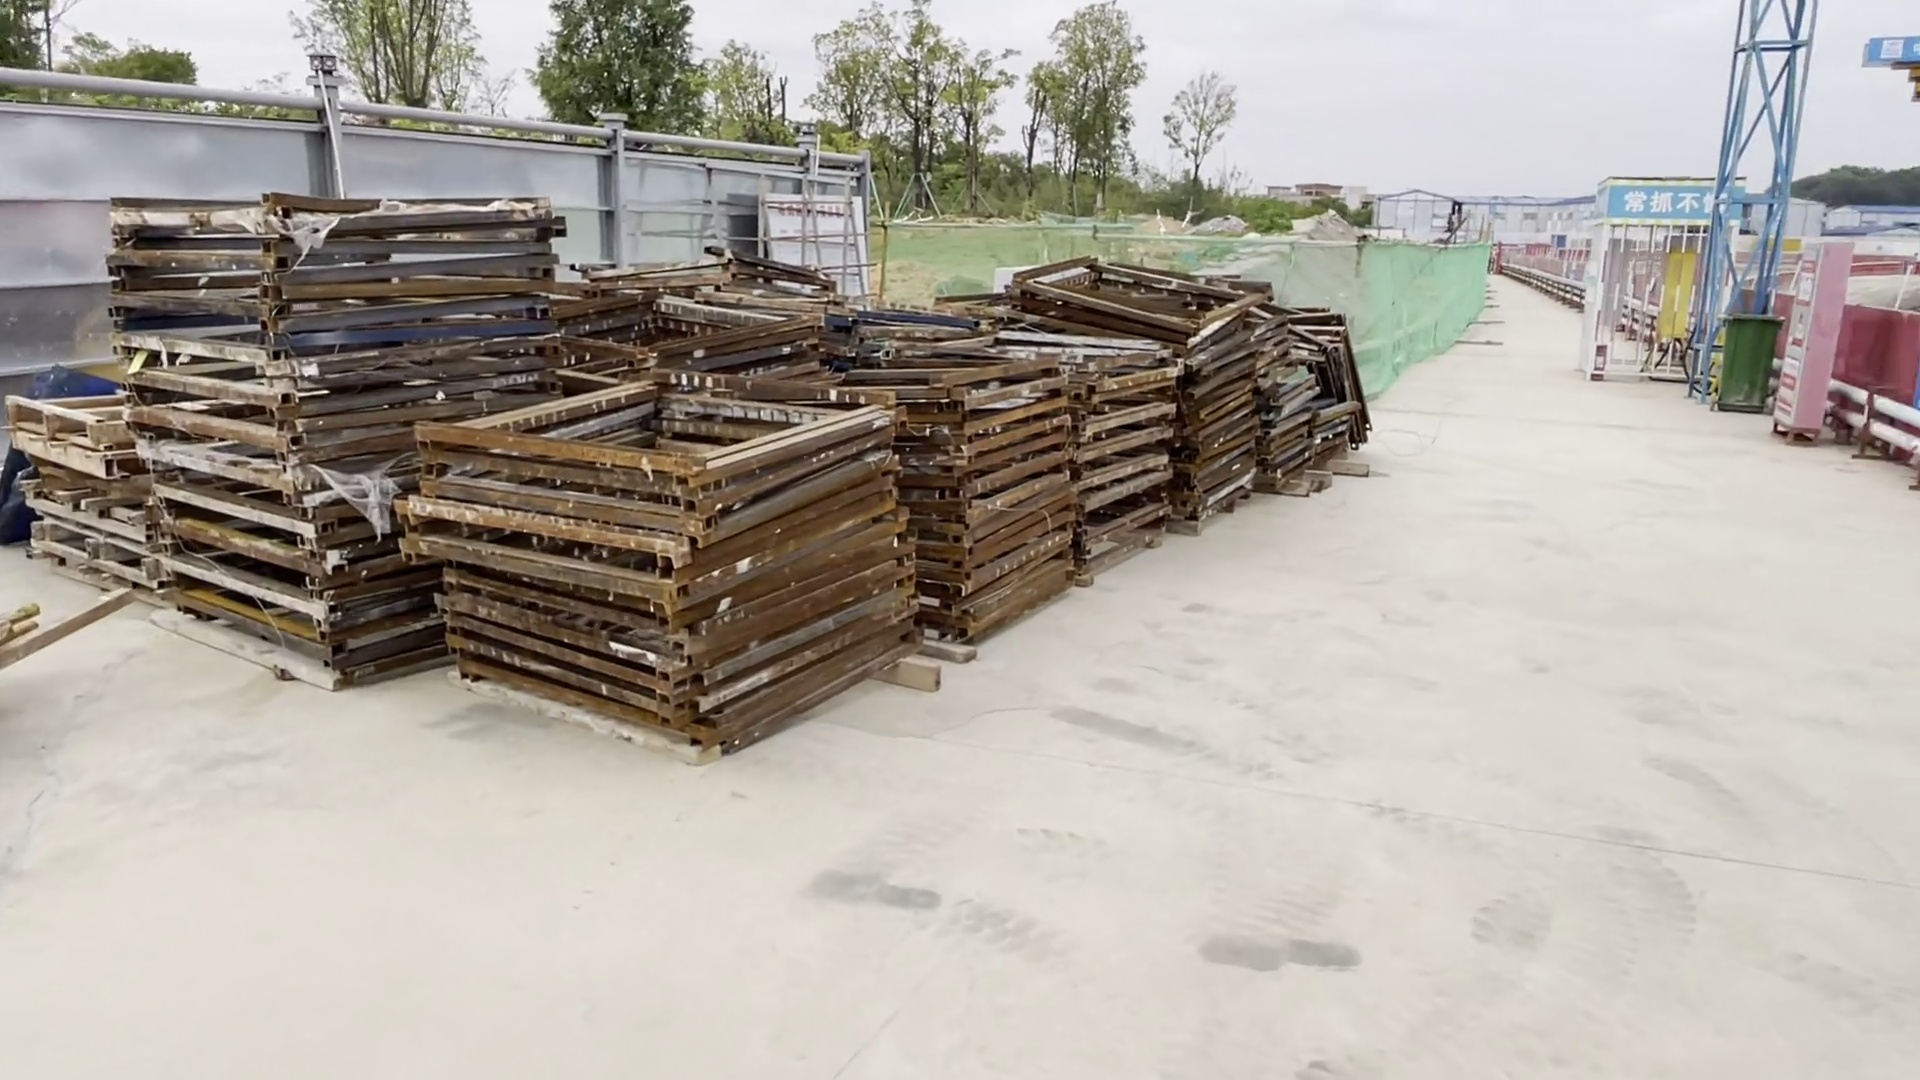slogan: (1575, 154, 1758, 219)
